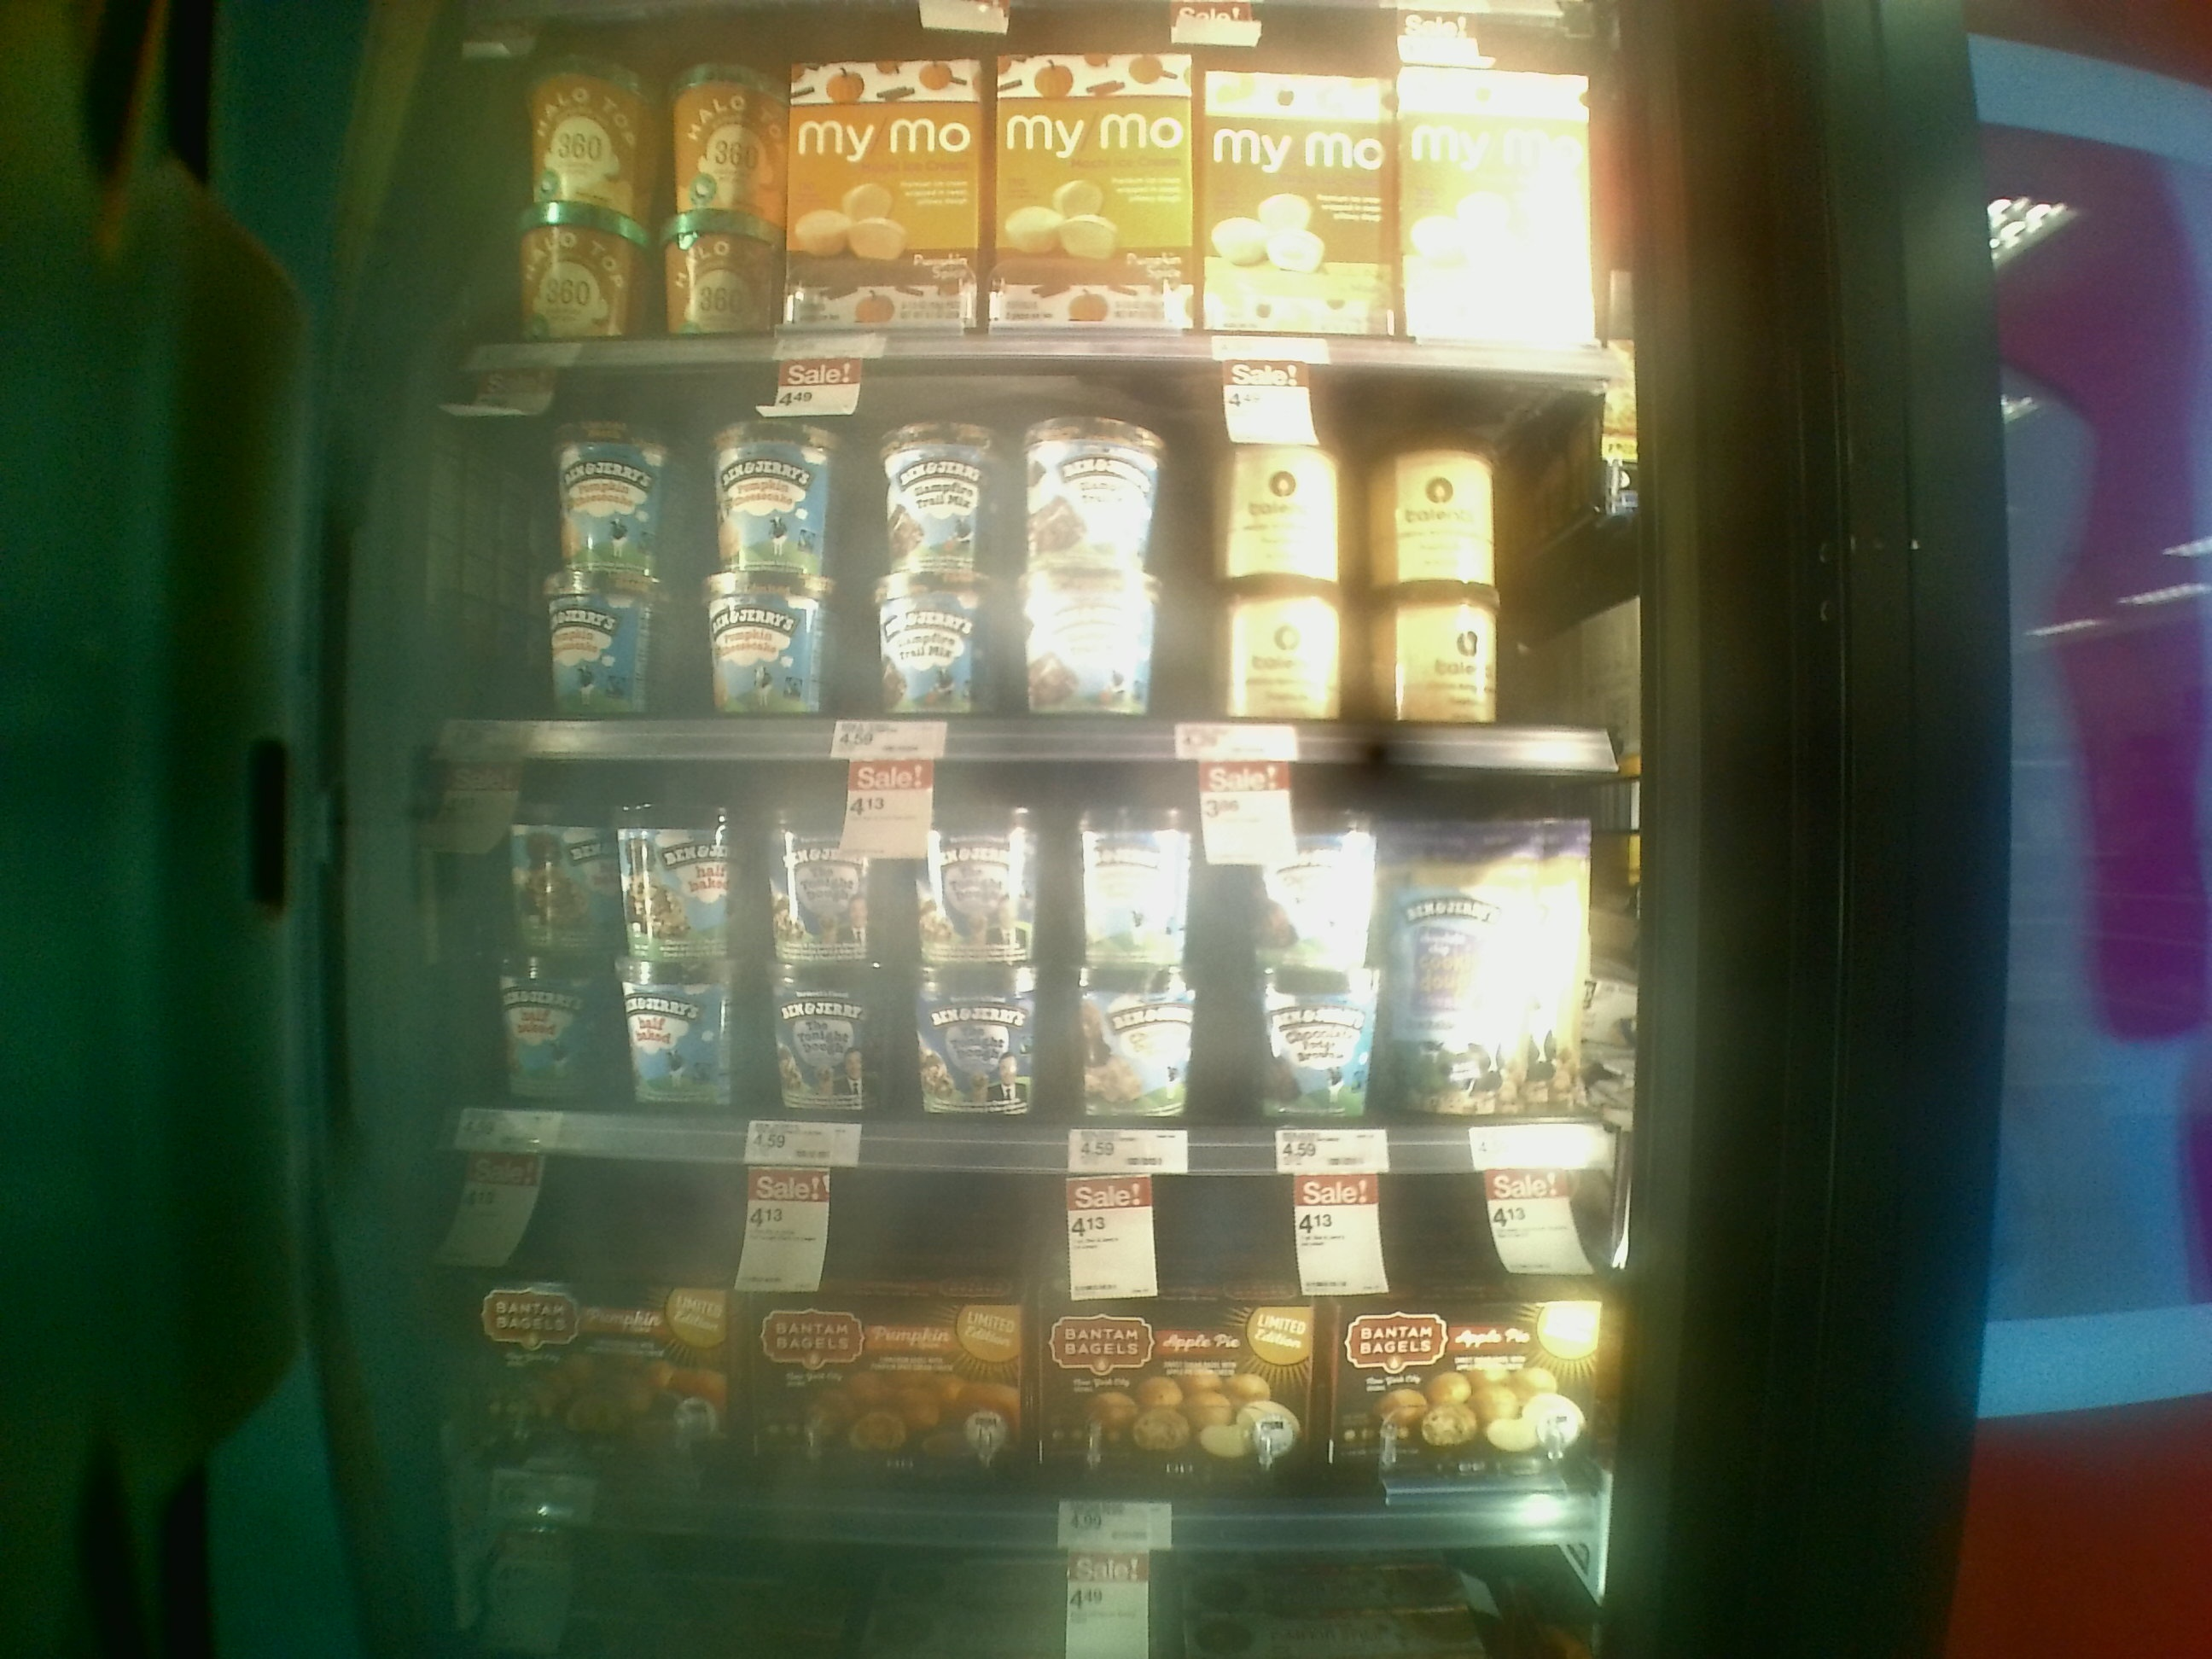shelf: (408, 748, 1634, 1169), (430, 359, 1644, 779), (408, 1124, 1615, 1546)
